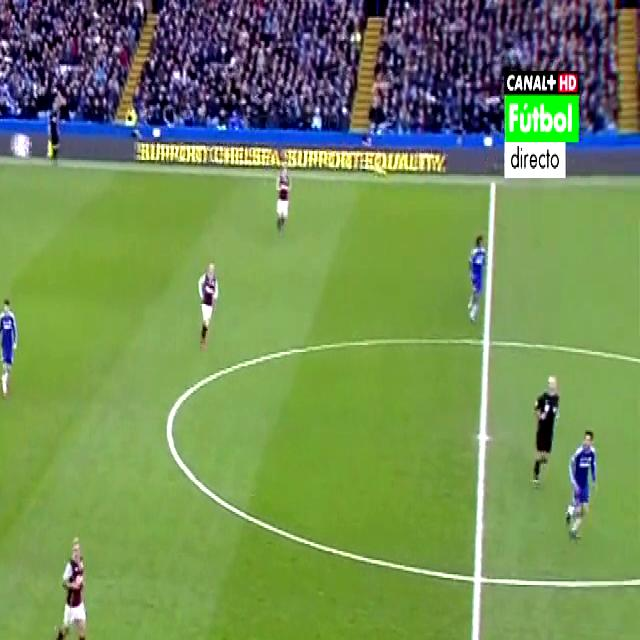referee: (521, 365, 563, 488), (44, 97, 66, 172)
soccer-player: (45, 535, 96, 640), (569, 427, 602, 537), (464, 215, 492, 328), (192, 252, 219, 352), (0, 283, 22, 402), (271, 156, 295, 231)
